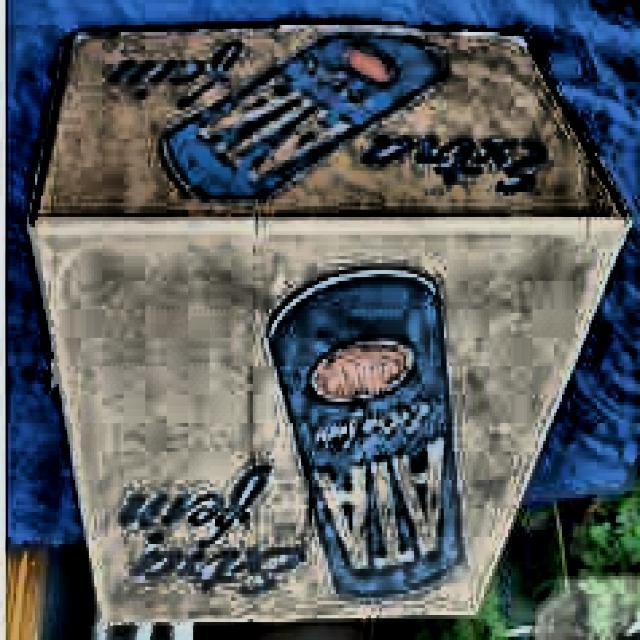cardboard: (27, 25, 635, 630)
